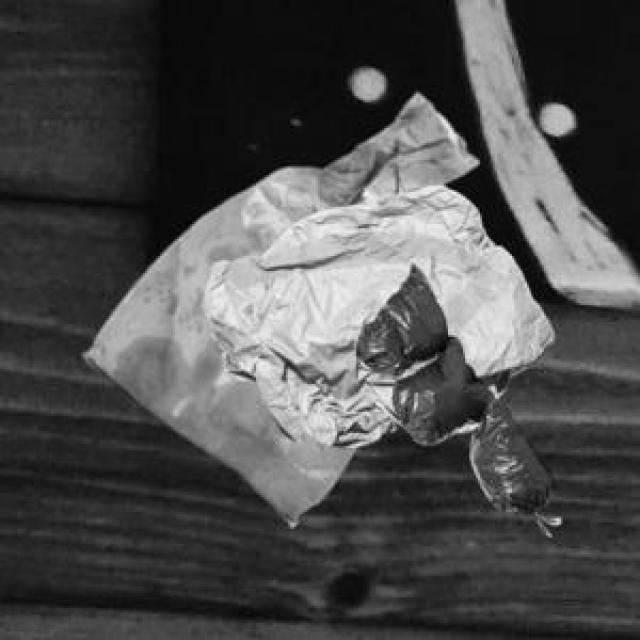miscellaneous trash: (352, 260, 553, 512)
paper: (79, 90, 474, 523), (198, 181, 548, 446)
